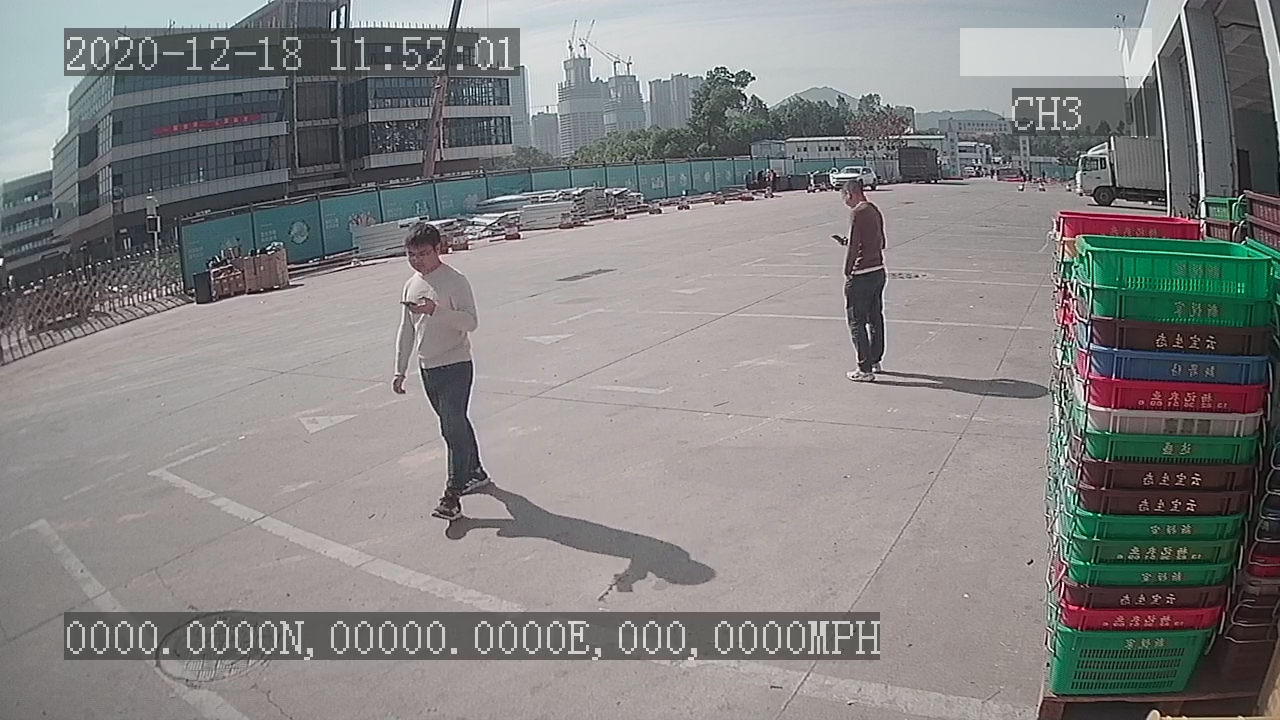person: (379, 215, 492, 529), (829, 170, 893, 388)
